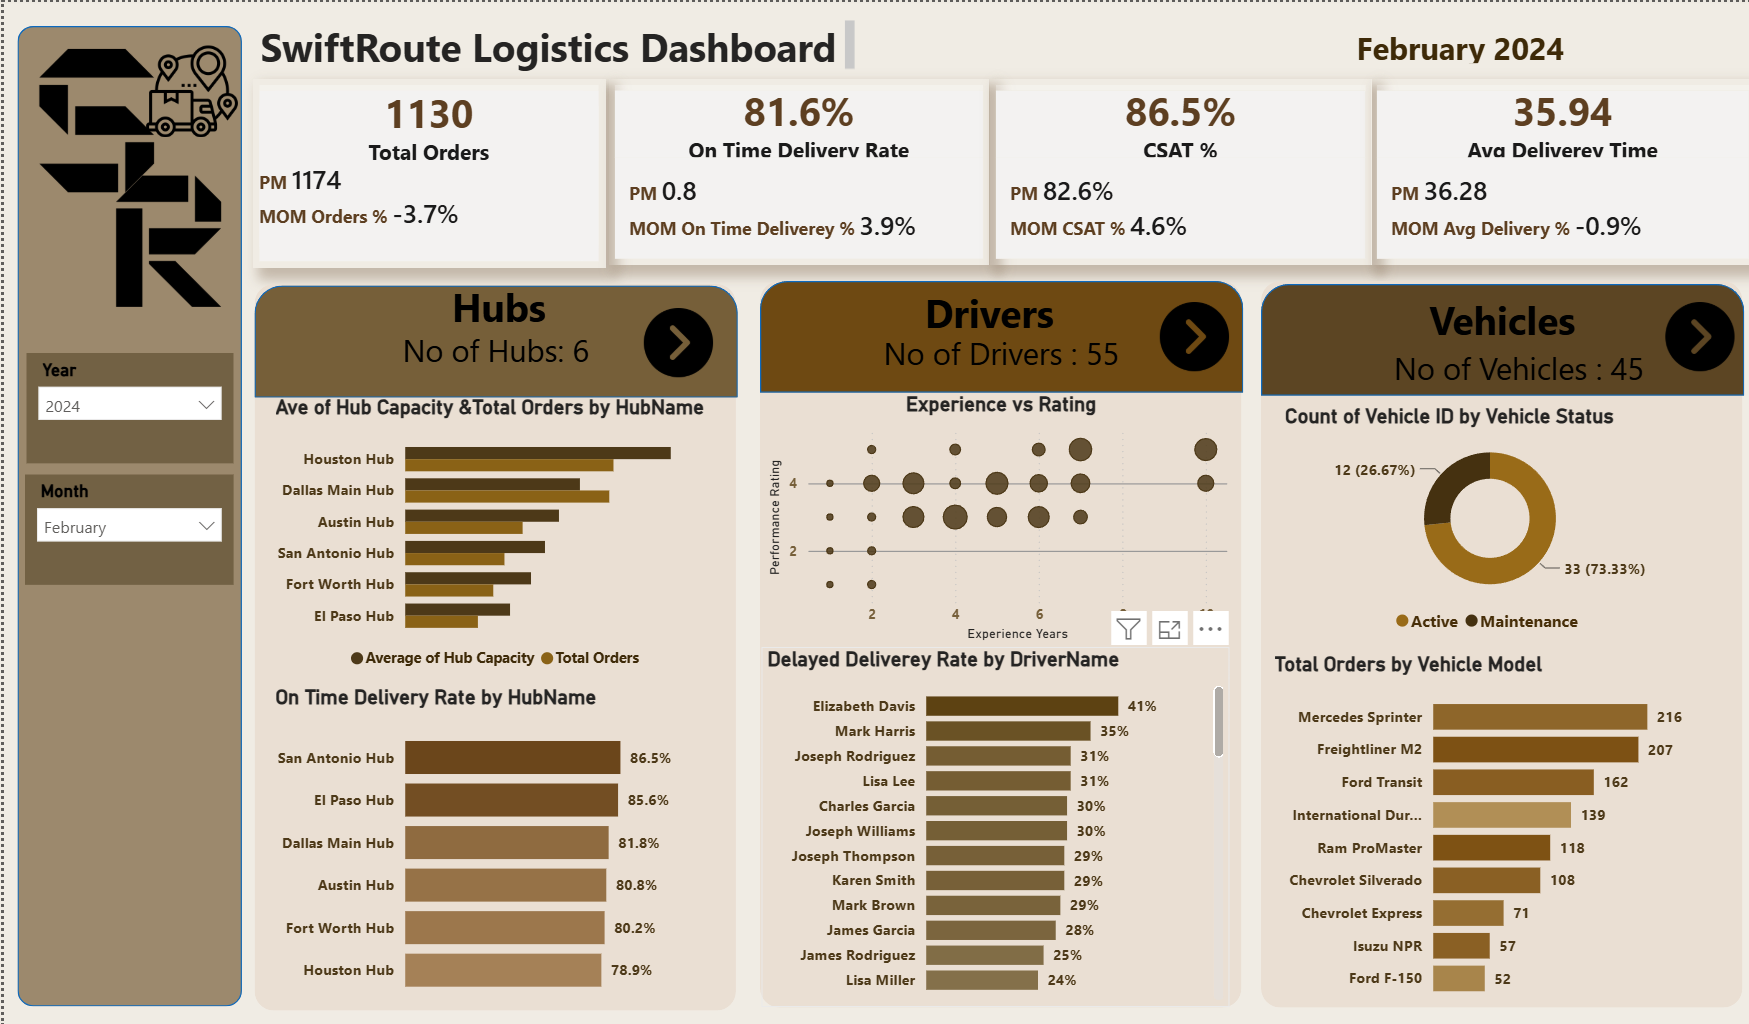

The page's visual inventory and layout, read from the dashboard file:
{"tool":"powerbi","page":{"name":"SwiftRoute Logistics Dashboard","canvas":[1450,850],"ordinal":0},"visuals":[{"type":"shape","box":[11.4,20,185.7,811.4],"z":0},{"type":"textbox","box":[207.1,10,501.4,51.4],"z":1000},{"type":"cardVisual","fields":{"Data":["0rders.Total Orders"]},"box":[206.7,63.3,291.7,156.7],"z":2000},{"type":"slicer","fields":{"Values":["Date Table.Year"]},"box":[18.6,290,171.4,91.4],"z":3000},{"type":"slicer","fields":{"Values":["Date Table.Month"]},"box":[17.1,391.4,172.9,91.4],"z":4000},{"type":"cardVisual","fields":{"Data":["0rders.On Time Delivery Rate"]},"box":[500,63.9,315.3,154.2],"z":5000},{"type":"cardVisual","fields":{"Data":["0rders.CSAT %"]},"box":[815.3,63.9,316.7,154.2],"z":6000},{"type":"cardVisual","fields":{"Data":["0rders.Avg Deliverey Time"]},"box":[1131.4,62.9,318.6,154.3],"z":7000},{"type":"shape","box":[207.6,233.3,398.5,601.5],"z":8000},{"type":"shape","box":[207.1,234.3,400,92.9],"z":9000},{"type":"shape","box":[1040.9,230.3,398.5,601.5],"z":10000},{"type":"shape","box":[625.8,230.3,398.5,601.5],"z":11000},{"type":"shape","box":[1040.9,233.3,400,92.4],"z":12000},{"type":"shape","box":[625.8,230.3,400,92.4],"z":13000},{"type":"shape","box":[260,230,300,44.3],"z":14000},{"type":"clusteredBarChart","title":"Ave of Hub Capacity &Total Orders by HubName","fields":{"Category":["Hubs.HubName"],"Y":["Avg(Hubs.Hub Capacity)","0rders.Total Orders"]},"box":[219.7,325.8,377.3,236.4],"z":15000},{"type":"barChart","fields":{"Category":["Hubs.HubName"],"Y":["0rders.On Time Delivery Rate"]},"box":[219.7,565.2,337.9,269.7],"z":16000},{"type":"shape","box":[665.2,234.8,300,43.9],"z":17000},{"type":"cardVisual","fields":{"Data":["0rders.No of drivers"]},"box":[675.8,256.1,300,80.3],"z":18000},{"type":"scatterChart","title":"Experience vs Rating","fields":{"X":["Drivers.Experience Years"],"Y":["Drivers.Performance Rating"],"Size":["Sum(Drivers.Experience Years)1"]},"box":[626.7,323.3,396.7,210],"z":19000},{"type":"barChart","fields":{"Category":["Drivers.DriverName"],"Y":["0rders.Delayed Deliverey Rate"]},"box":[627.1,534.3,387.1,297.1],"z":20000},{"type":"shape","box":[1090,234.3,300,54.3],"z":21000},{"type":"cardVisual","fields":{"Data":["0rders.No of Vehicles."]},"box":[1104.3,268.6,300,80],"z":22000},{"type":"donutChart","fields":{"Category":["Vehicles.Vehicle Status"],"Y":["CountNonNull(Vehicles.Vehicle ID)"]},"box":[1055.7,332.9,348.6,198.6],"z":23000},{"type":"barChart","fields":{"Category":["Vehicles.Vehicle Model"],"Y":["0rders.Total Orders"]},"box":[1047.1,537.1,387.1,297.1],"z":24000},{"type":"cardVisual","fields":{"Data":["0rders.Year Month Title"]},"box":[1055.7,4.3,300,64.3],"z":25000},{"type":"image","box":[17.1,24.3,118.6,147.1],"z":26000},{"type":"image","box":[81.4,121.4,108.6,152.9],"z":27000},{"type":"image","box":[104.3,35.7,102.9,75.7],"z":28000},{"type":"image","box":[955.7,248.6,58.6,57.1],"z":29000},{"type":"image","box":[1374.3,248.6,58.6,57.1],"z":30000},{"type":"image","box":[528.6,252.9,58.6,57.1],"z":31000},{"type":"cardVisual","fields":{"Data":["0rders.No of hubs"]},"box":[257.1,252.9,300,80],"z":32000}]}

Visuals, with their boxes in screenshot pixels (x1, y1, x2, y2), scaled from the page's 1450x850 canvas onto the 1749x1024 screenshot:
shape: select_region(14, 24, 238, 1002)
textbox: select_region(250, 12, 855, 74)
cardVisual - 0rders.Total Orders: select_region(249, 76, 601, 265)
slicer - Date Table.Year: select_region(22, 349, 229, 459)
slicer - Date Table.Month: select_region(21, 472, 229, 582)
cardVisual - 0rders.On Time Delivery Rate: select_region(603, 77, 983, 263)
cardVisual - 0rders.CSAT %: select_region(983, 77, 1365, 263)
cardVisual - 0rders.Avg Deliverey Time: select_region(1365, 76, 1748, 262)
shape: select_region(250, 281, 731, 1006)
shape: select_region(250, 282, 732, 394)
shape: select_region(1256, 277, 1736, 1002)
shape: select_region(755, 277, 1236, 1002)
shape: select_region(1256, 281, 1738, 392)
shape: select_region(755, 277, 1237, 389)
shape: select_region(314, 277, 675, 330)
"Ave of Hub Capacity &Total Orders by HubName" clusteredBarChart: select_region(265, 392, 720, 677)
barChart - Hubs.HubName x 0rders.On Time Delivery Rate: select_region(265, 681, 673, 1006)
shape: select_region(802, 283, 1164, 336)
cardVisual - 0rders.No of drivers: select_region(815, 309, 1177, 405)
"Experience vs Rating" scatterChart: select_region(756, 389, 1234, 642)
barChart - Drivers.DriverName x 0rders.Delayed Deliverey Rate: select_region(756, 644, 1223, 1002)
shape: select_region(1315, 282, 1677, 348)
cardVisual - 0rders.No of Vehicles.: select_region(1332, 324, 1694, 420)
donutChart - Vehicles.Vehicle Status x CountNonNull(Vehicles.Vehicle ID): select_region(1273, 401, 1694, 640)
barChart - Vehicles.Vehicle Model x 0rders.Total Orders: select_region(1263, 647, 1730, 1005)
cardVisual - 0rders.Year Month Title: select_region(1273, 5, 1635, 83)
image: select_region(21, 29, 164, 206)
image: select_region(98, 146, 229, 330)
image: select_region(126, 43, 250, 134)
image: select_region(1153, 299, 1223, 368)
image: select_region(1658, 299, 1728, 368)
image: select_region(638, 305, 708, 373)
cardVisual - 0rders.No of hubs: select_region(310, 305, 672, 401)
